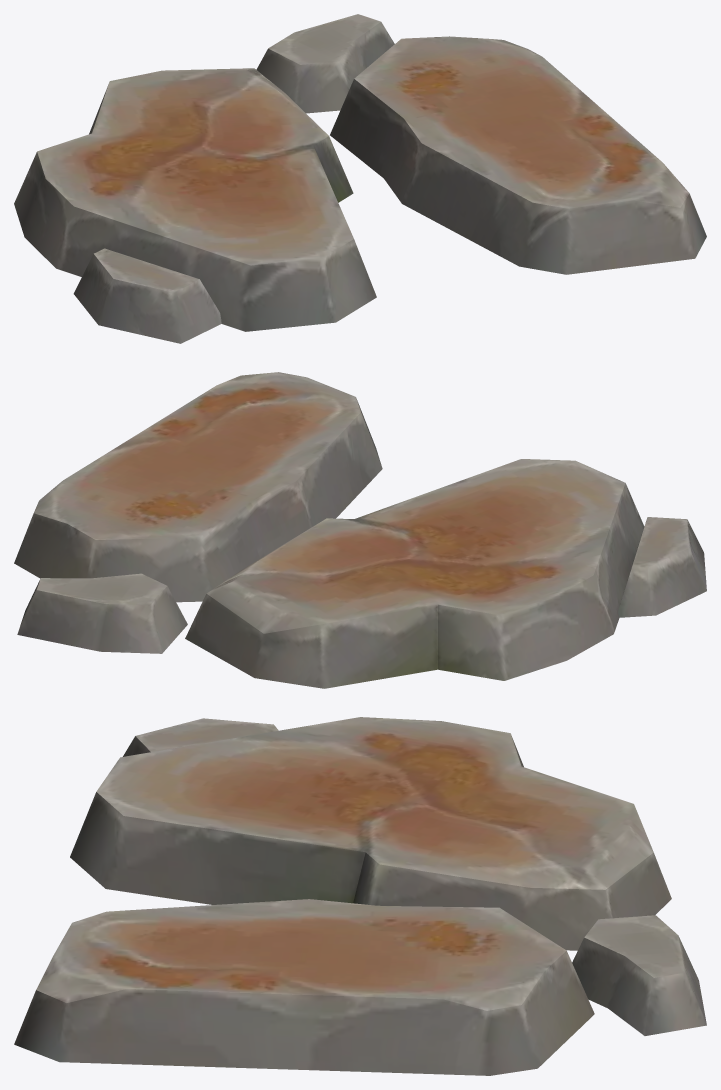
The picture shows the model from 3 angles, top to bottom: view 1: azimuth 30°, elevation 25°; view 2: azimuth 150°, elevation 25°; view 3: azimuth 270°, elevation 25°; orthographic projection. The views are drawn at different scales.
Bounding box in the file's own units: 1.52 × 0.1436 × 1.4.
Materials: 1 (1 with a texture image).
